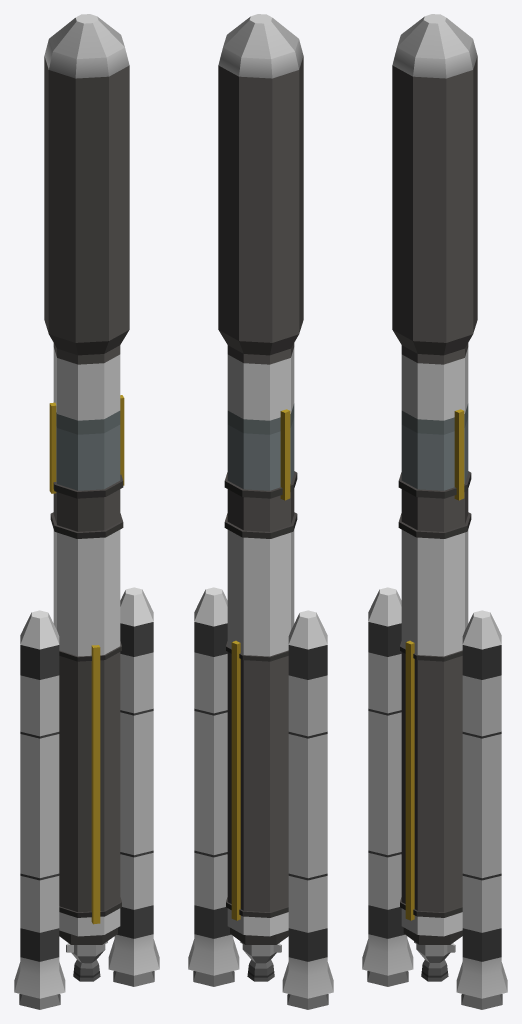
Rendered from SM_Veh_Rocket_08.fbx.
The picture shows the model from 3 angles, left to right: view 1: azimuth 30°, elevation 25°; view 2: azimuth 150°, elevation 25°; view 3: azimuth 330°, elevation 25°; orthographic projection.
Visible parts, largest first — view 1: SM_Veh_Rocket_08; view 2: SM_Veh_Rocket_08; view 3: SM_Veh_Rocket_08.
Boxes of the visible parts, x1,y1,x2,y2 form: SM_Veh_Rocket_08: (14,14,159,1009); SM_Veh_Rocket_08: (188,14,333,1009); SM_Veh_Rocket_08: (362,14,507,1009).
Size of the model in its own units: 3.77 by 24.06 by 1.98.
